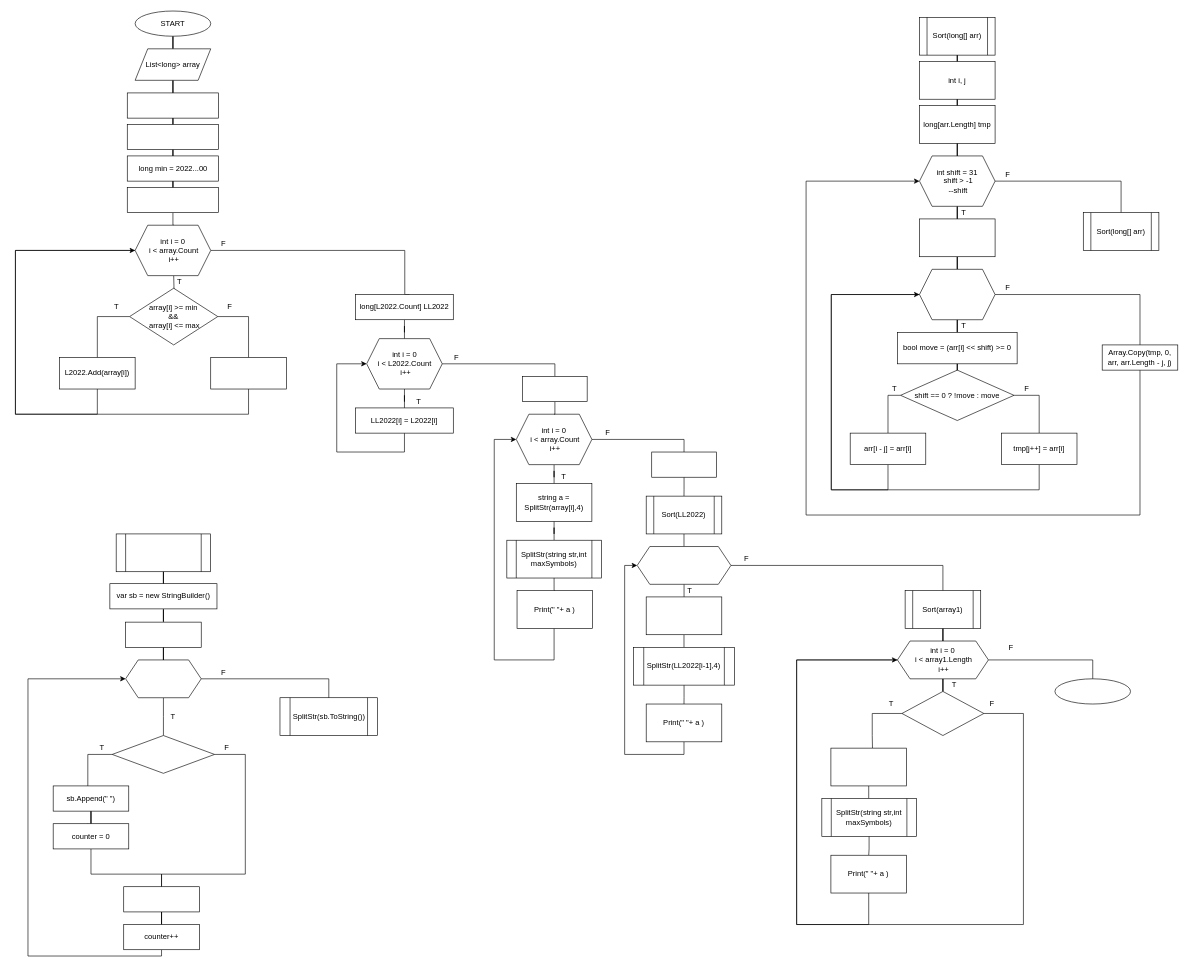
This 1189x972 diagram has some shape labels left out. Here are the shapes that lost their labels. From the top down, the centre of each, then its label:
pixel 173 105: long[array.Count] array1
pixel 173 137: List<long> L2022
pixel 173 200: long max = 2022..99
pixel 957 237: j = 0
pixel 957 294: i = 0 i < arr.Length ++i
pixel 248 373: array1[i] = array[i]
pixel 554 389: Print(Original)
pixel 683 464: Print(Sorted)
pixel 163 552: SplitStr(string str, int maxSymbols)
pixel 684 565: int i = LL2022.Length i > 0 i--
pixel 163 634: var counter = 0
pixel 684 615: string a = SplitStr(LL2022[i-1],4)
pixel 163 678: var element in str
pixel 1092 691: END
pixel 942 713: array1[i] !=0
pixel 163 754: counter == maxSymbols
pixel 868 766: string a = SplitStr(array1[i],4)
pixel 161 899: sb.Append(element)
